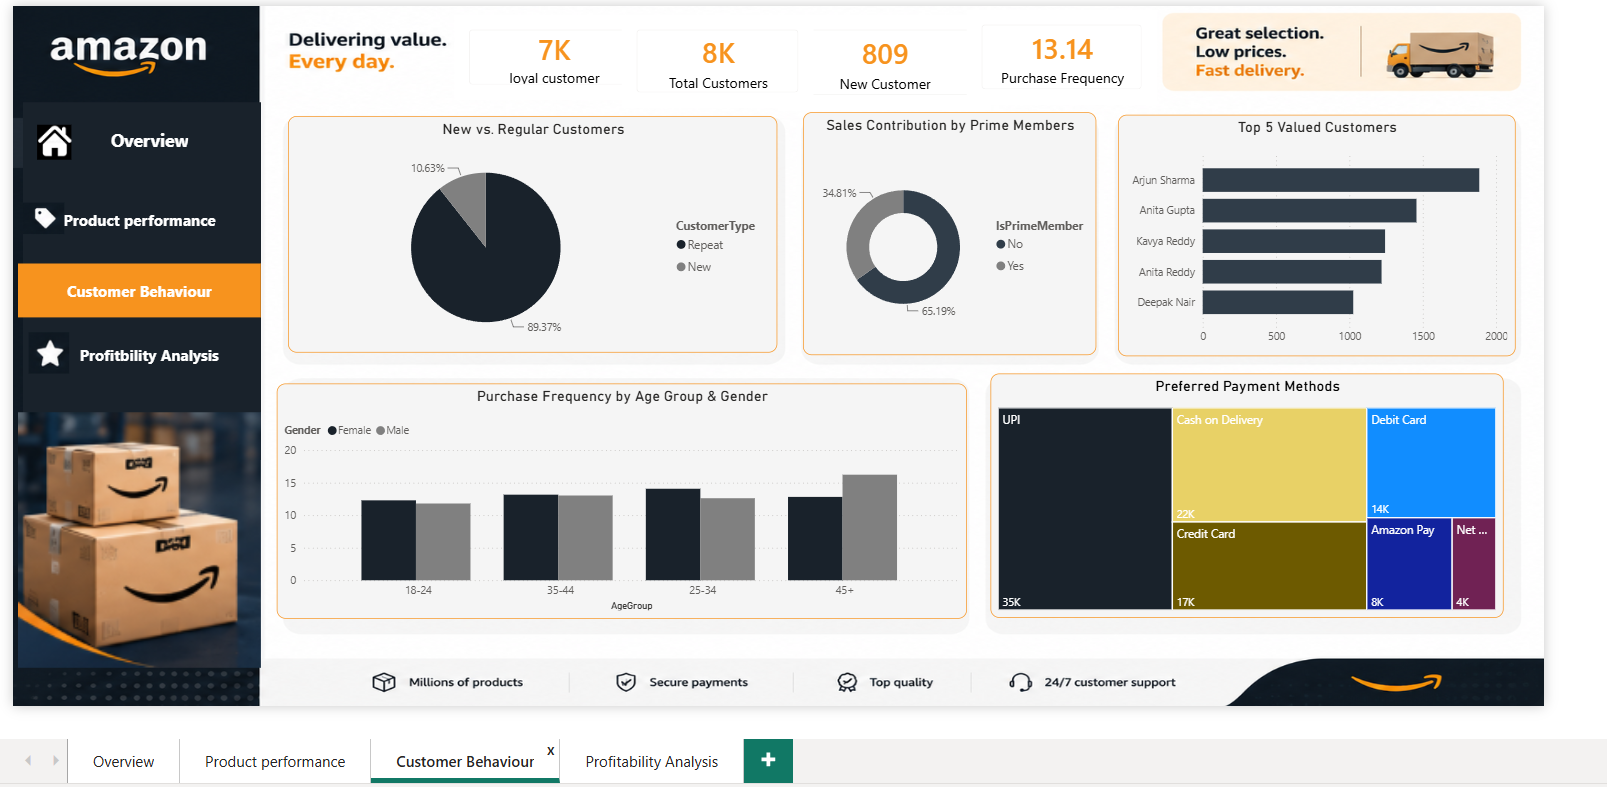

The page's visual inventory and layout, read from the dashboard file:
{"tool":"powerbi","page":{"name":"Customer Behaviour ","canvas":[1750,800],"ordinal":2},"visuals":[{"type":"treemap","title":"Preferred Payment Methods","fields":{"Group":["amzon sale dataset.PaymentMethod"],"Values":["Measure.Total Orders"]},"box":[1117.6,419.7,586.7,279.3],"z":0},{"type":"pieChart","title":"New vs. Regular Customers ","fields":{"Y":["Count(amzon sale dataset.CustomerID)"],"Category":["amzon sale dataset.CustomerType"]},"box":[314.8,125.6,559.6,270.3],"z":1000},{"type":"cardVisual","fields":{"Data":["Measure.loyal customer"]},"box":[504,9.5,227,97.6],"z":2000},{"type":"cardVisual","fields":{"Data":["Measure.New Customer"]},"box":[874.4,9.5,243.2,109.7],"z":3000},{"type":"donutChart","title":"Sales Contribution by Prime Members","fields":{"Category":["amzon sale dataset.IsPrimeMember"],"Y":["Sum(amzon sale dataset.TotalAmount)"]},"box":[902.5,122.1,335.5,277.9],"z":4000},{"type":"clusteredColumnChart","title":"Purchase Frequency by Age Group & Gender","fields":{"Category":["amzon sale dataset.AgeGroup"],"Y":["Measure.Purchase Frequency"],"Series":["amzon sale dataset.Gender"]},"box":[302.1,430.8,788.5,268.7],"z":5000},{"type":"cardVisual","fields":{"Data":["Measure.Total Customers"]},"box":[696.3,9.5,219.4,106.5],"z":6000},{"type":"cardVisual","fields":{"Data":["Measure.Purchase Frequency"]},"box":[1090.6,4.8,217.6,108.8],"z":7000},{"type":"shape","box":[10.7,109.9,272.1,408.8],"z":8000},{"type":"actionButton","box":[59,107.2,195.1,89.8],"z":9000},{"type":"actionButton","box":[46.9,201.1,195.1,84.2],"z":10000},{"type":"actionButton","box":[5.4,294.9,277.5,61.7],"z":11000},{"type":"actionButton","box":[57.6,356.6,197.1,82.7],"z":12000},{"type":"barChart","title":"Top 5 Valued Customers ","fields":{"Category":["amzon sale dataset.CustomerName"],"Y":["Measure.Total Orders"]},"box":[1263.1,124.3,454.4,275.8],"z":13000},{"type":"image","box":[12.1,214.5,46.9,56.6],"z":14000},{"type":"image","box":[10.7,372.7,59.3,46.9],"z":15000},{"type":"image","box":[17.1,135.7,60,40],"z":16000},{"type":"image","box":[5.4,463.8,277.5,292.2],"z":17000}]}

Visuals, with their boxes on the page's 1750x800 design canvas (x1, y1, x2, y2). These are canvas units, not pixel positions in the 1607x787 screenshot, which may show the page scaled, cropped or inside an application window:
"Preferred Payment Methods" treemap: (1118,420,1704,699)
"New vs. Regular Customers " pieChart: (315,126,874,396)
cardVisual - Measure.loyal customer: (504,10,731,107)
cardVisual - Measure.New Customer: (874,10,1118,119)
"Sales Contribution by Prime Members" donutChart: (902,122,1238,400)
"Purchase Frequency by Age Group & Gender" clusteredColumnChart: (302,431,1091,700)
cardVisual - Measure.Total Customers: (696,10,916,116)
cardVisual - Measure.Purchase Frequency: (1091,5,1308,114)
shape: (11,110,283,519)
actionButton: (59,107,254,197)
actionButton: (47,201,242,285)
actionButton: (5,295,283,357)
actionButton: (58,357,255,439)
"Top 5 Valued Customers " barChart: (1263,124,1718,400)
image: (12,214,59,271)
image: (11,373,70,420)
image: (17,136,77,176)
image: (5,464,283,756)
